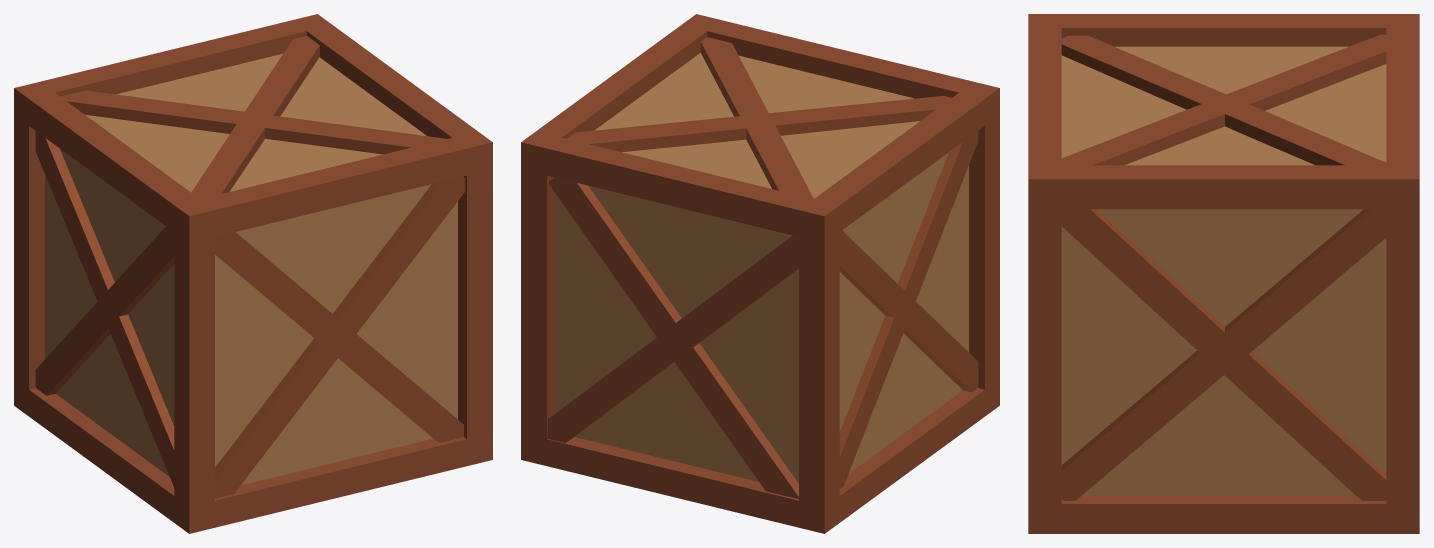
File: Crate.glb
The picture shows the model from 3 angles, left to right: view 1: azimuth 30°, elevation 25°; view 2: azimuth 150°, elevation 25°; view 3: azimuth 270°, elevation 25°; orthographic projection. The views are drawn at different scales.
Visible parts, largest first — view 1: Crate, Cube.003, Cube.005, Cube.002; view 2: Crate, Cube.004, Cube.002, Cube.005; view 3: Crate, Cube.001, Cube.005.
Part boxes in pixels (bbox=[...]): Crate: bbox=[14, 14, 492, 533]; Cube.003: bbox=[215, 176, 465, 498]; Cube.005: bbox=[60, 35, 445, 198]; Cube.002: bbox=[35, 131, 174, 487]; Crate: bbox=[521, 14, 999, 533]; Cube.004: bbox=[547, 177, 798, 499]; Cube.002: bbox=[839, 131, 978, 488]; Cube.005: bbox=[566, 37, 951, 198]; Crate: bbox=[1028, 14, 1419, 533]; Cube.001: bbox=[1061, 209, 1386, 500]; Cube.005: bbox=[1061, 34, 1386, 165].
Bounding box in the file's own units: 1 × 1 × 1.
